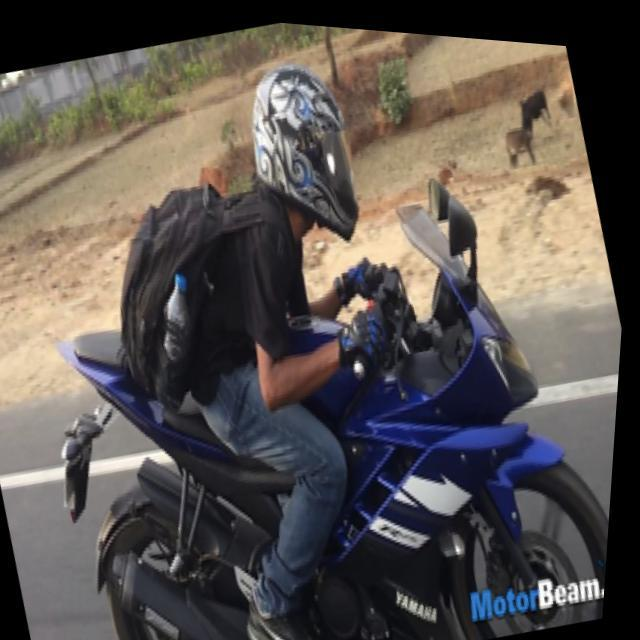Helmet: (238, 56, 372, 249)
